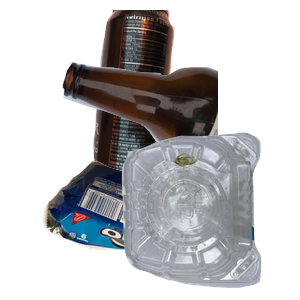glass: (60, 59, 300, 217)
metal: (91, 10, 258, 188)
plastic: (119, 130, 300, 300)
trash: (40, 158, 245, 300)
